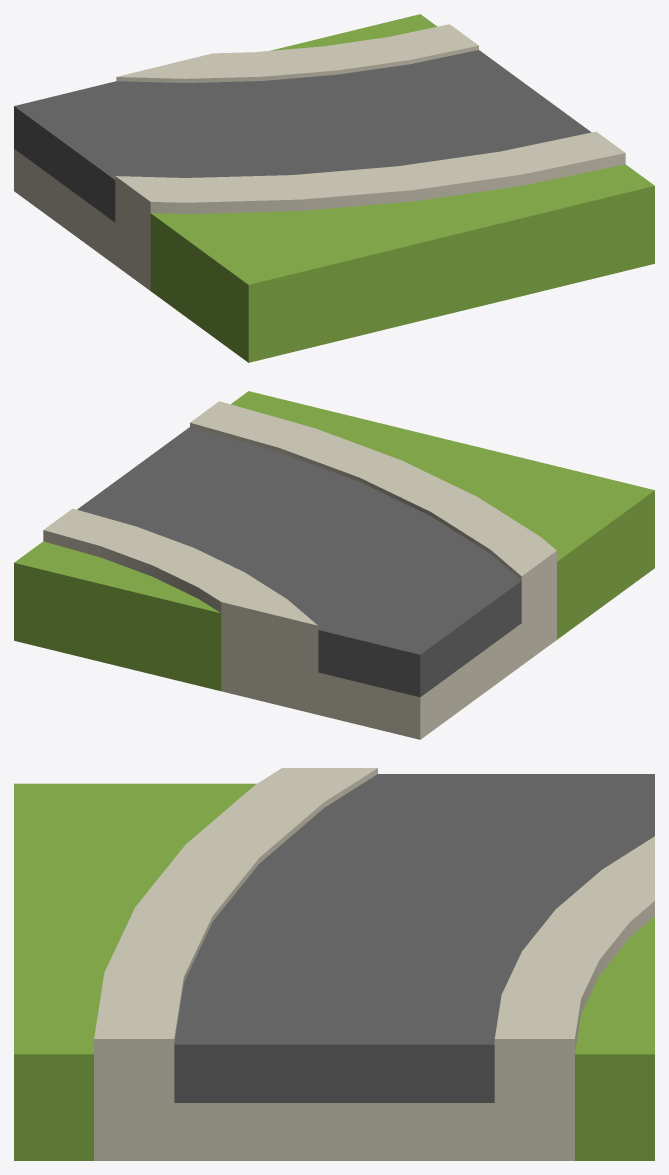
Rendered from road-one-way-curve-sidewalk-grass-1.obj.
The picture shows the model from 3 angles, top to bottom: view 1: azimuth 30°, elevation 25°; view 2: azimuth 150°, elevation 25°; view 3: azimuth 270°, elevation 25°; orthographic projection. The views are drawn at different scales.
Visible parts, largest first — view 1: Mesh1_Group1_Model.155; view 2: Mesh1_Group1_Model.155; view 3: Mesh1_Group1_Model.155.
Part boxes in pixels (x1,y1,x2,y2): Mesh1_Group1_Model.155: (14, 14, 654, 362); Mesh1_Group1_Model.155: (14, 391, 654, 739); Mesh1_Group1_Model.155: (14, 768, 654, 1160).
Bounding box in the file's own units: 3 × 0.63 × 3.
